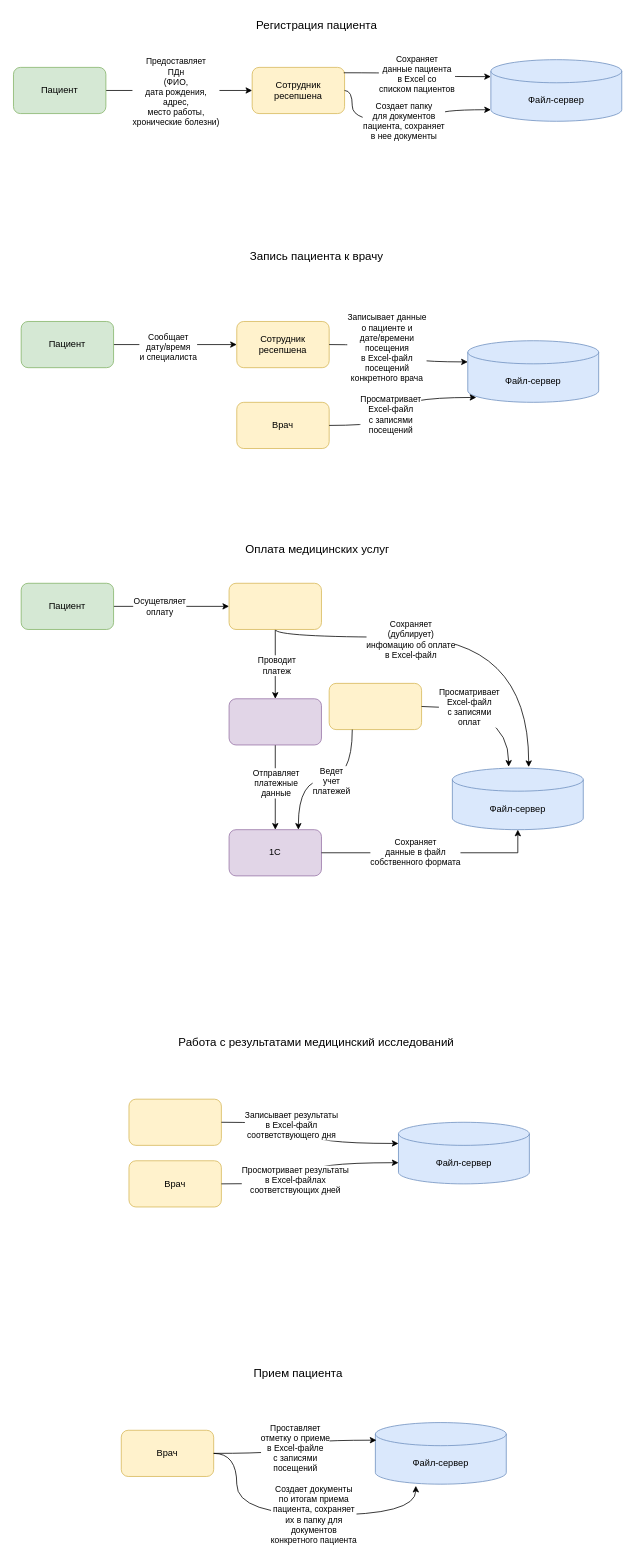
Some shapes in this 635 by 1558 pixel diagram are drawn without their labels. Each missing label, with the centre of its shape:
"Бухгалтер" belongs at point 375,706.
"Кассир" belongs at point 274,606.
"ККМ" belongs at point 274,721.
"Сотрудник лаборатории" belongs at point 174,1121.
